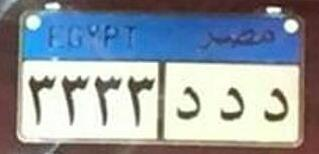3: (126, 73, 158, 130), (92, 73, 123, 131), (25, 73, 57, 129), (59, 73, 90, 126)
daal: (256, 81, 290, 127), (175, 81, 205, 127), (216, 83, 247, 126)
